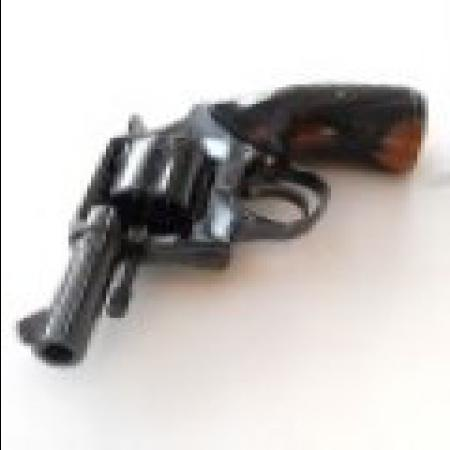Pistol: (8, 70, 420, 362)
